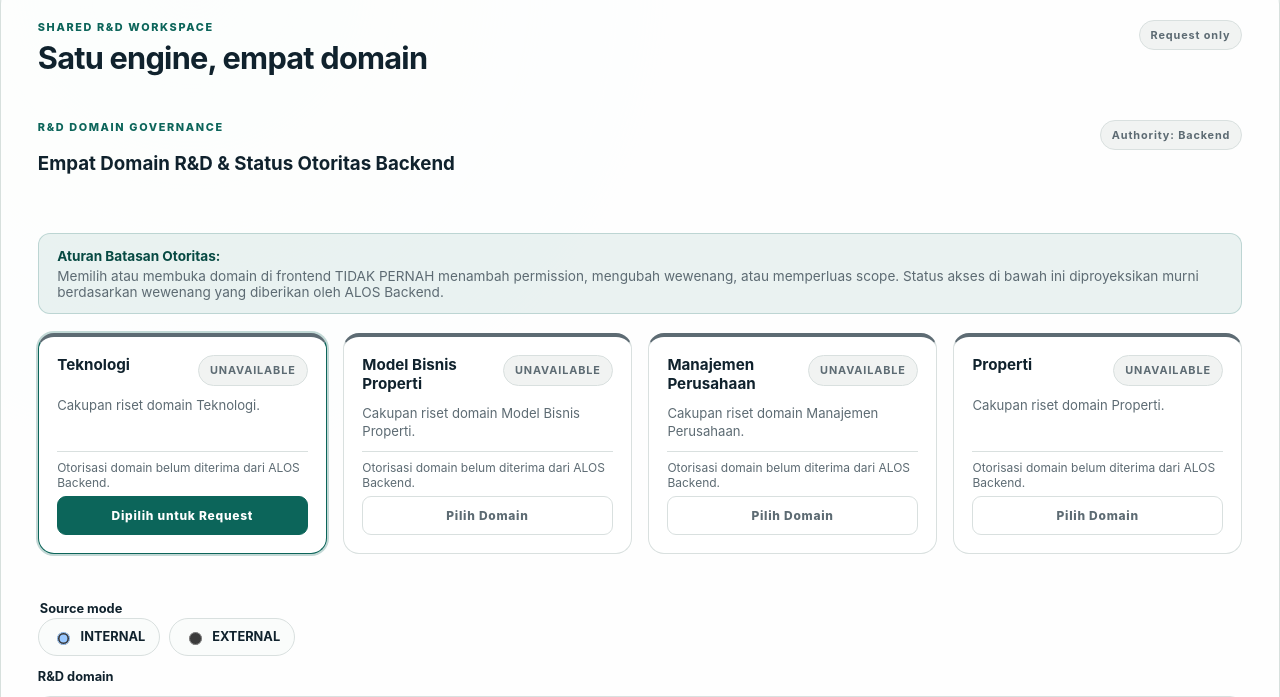
Test case: shared R&D workspace › menyediakan INTERNAL dan EXTERNAL sebagai request mode
Expected: the radio button labelled "INTERNAL" is checked, [57,632,70,645]
Click the radio button labelled "EXTERNAL": (196, 638) [189,632,202,645]
(page scrolled)
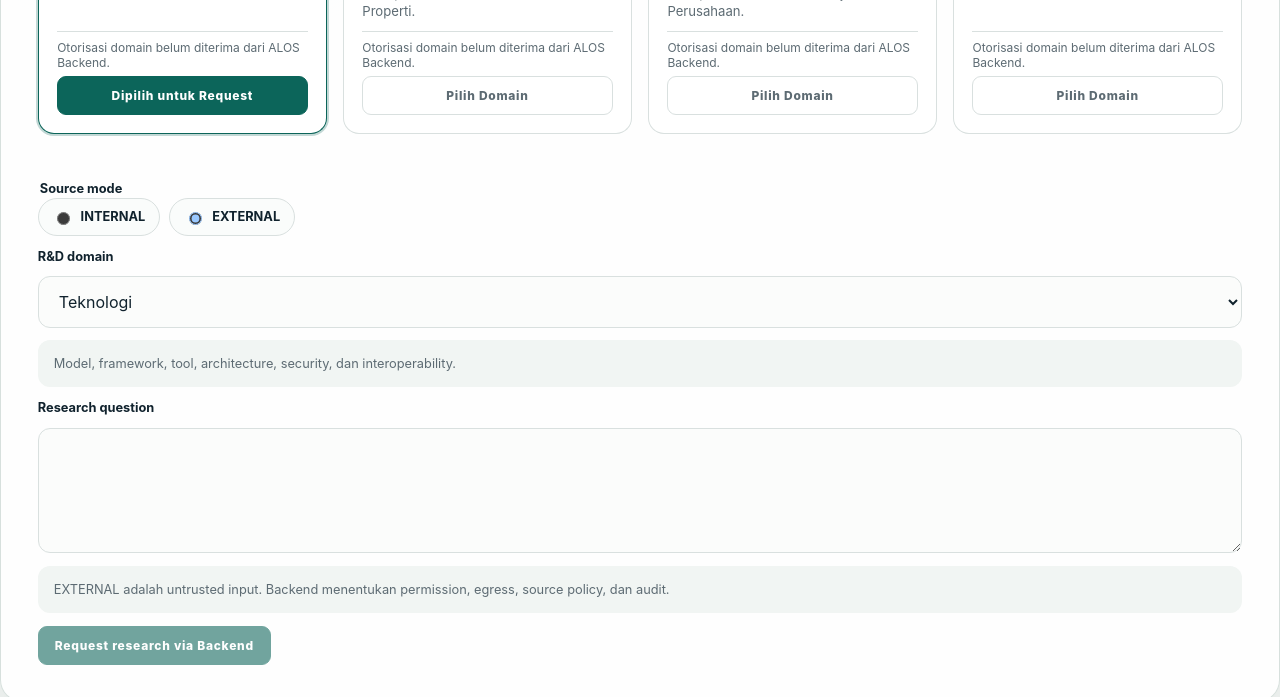
Result: the radio button labelled "EXTERNAL" is checked at [189,212,202,225]
Result: the text "EXTERNAL adalah untrusted input" is shown at [54,582,670,597]
